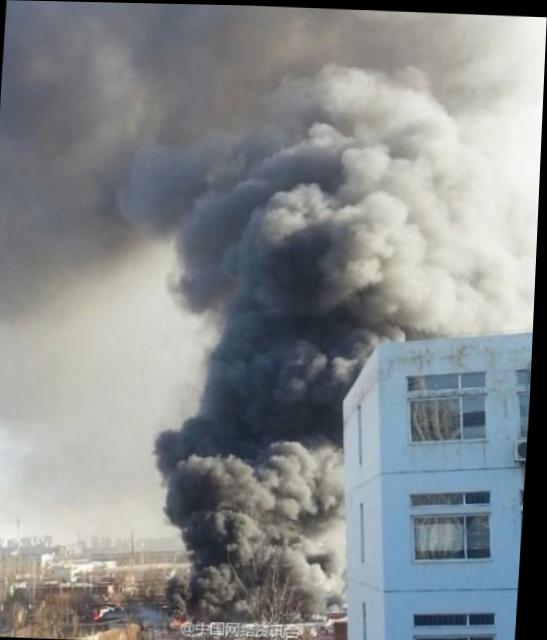smoke: (146, 5, 523, 243), (0, 0, 155, 322), (145, 425, 357, 620), (174, 234, 533, 331), (189, 327, 361, 424)
